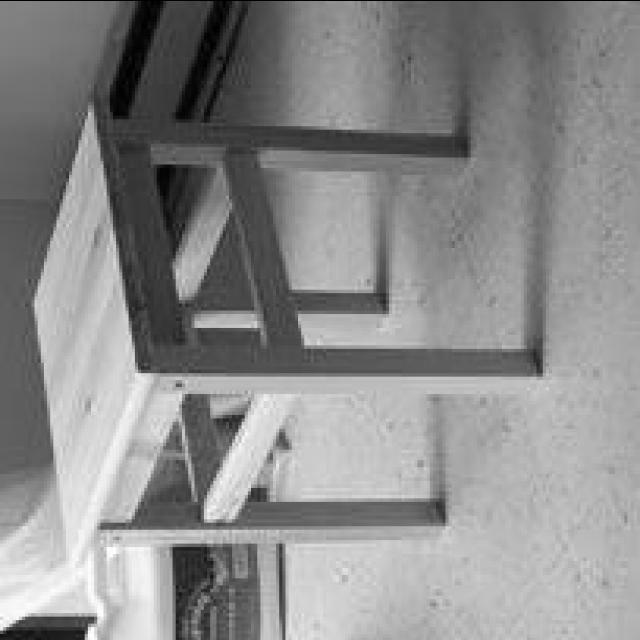table: (27, 95, 547, 569)
